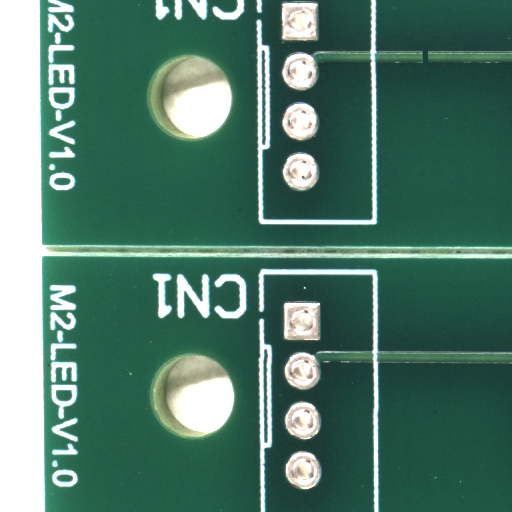Open_circuit: (424, 55, 432, 71)
